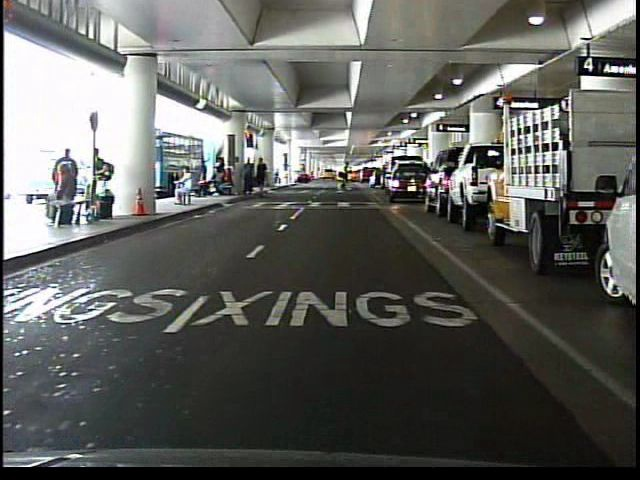person: (170, 169, 198, 210), (335, 159, 356, 192)
